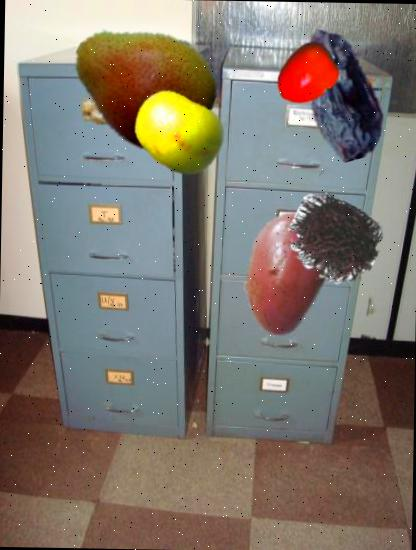Dates: (273, 24, 411, 162)
Ginger: (77, 40, 193, 156)
Kaki: (273, 41, 341, 109)
Pear: (67, 9, 218, 160)
Pomelo: (130, 84, 226, 180)
Potato: (220, 208, 351, 338)
Rambutan: (286, 194, 380, 289)
